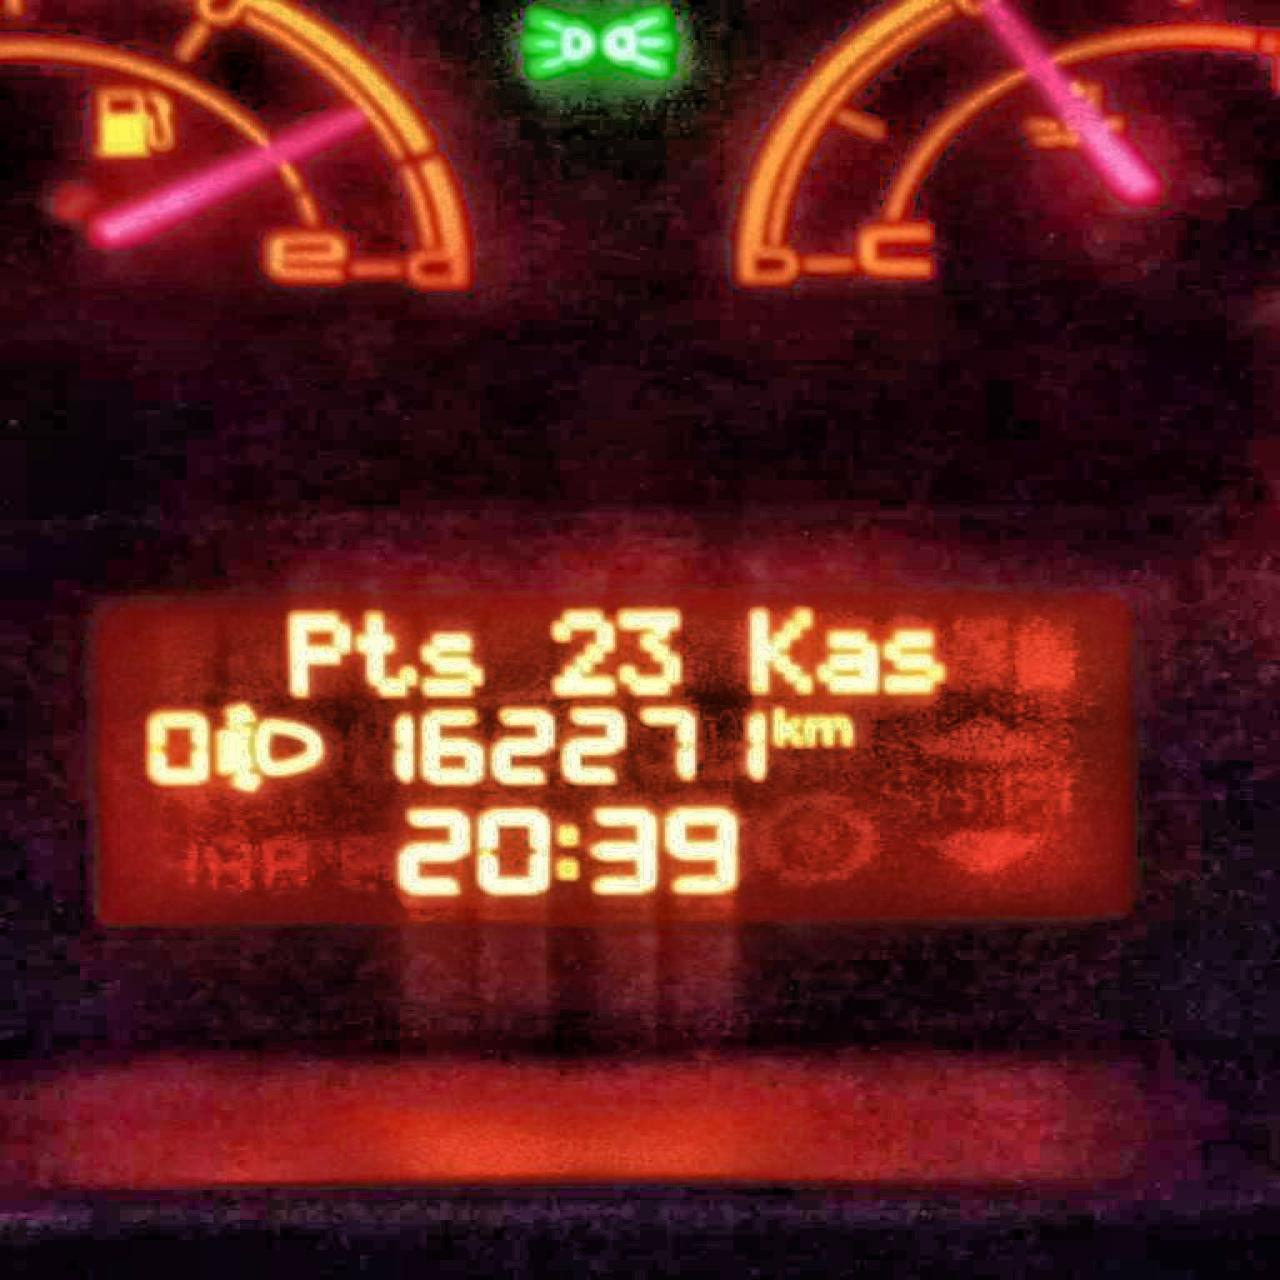0: (474, 805, 550, 897), (142, 709, 210, 787)
1: (740, 708, 770, 783), (388, 712, 415, 784)
2: (395, 805, 474, 896), (546, 606, 617, 697), (486, 703, 556, 787), (557, 704, 626, 788)
3: (587, 804, 659, 896), (617, 605, 683, 695)
6: (416, 706, 486, 787)
7: (635, 706, 699, 783)
9: (660, 803, 740, 897)
X: (745, 604, 815, 696), (349, 607, 418, 697), (284, 610, 349, 700), (878, 626, 948, 696), (815, 627, 880, 696), (418, 631, 485, 697), (550, 822, 581, 883), (802, 713, 853, 748), (770, 704, 802, 747)
odometer: (80, 577, 1146, 933)
